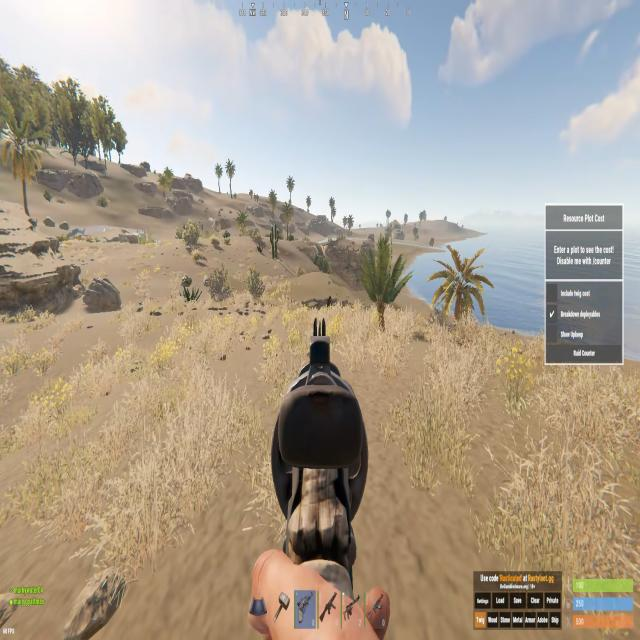Player: (328, 296, 332, 306)
